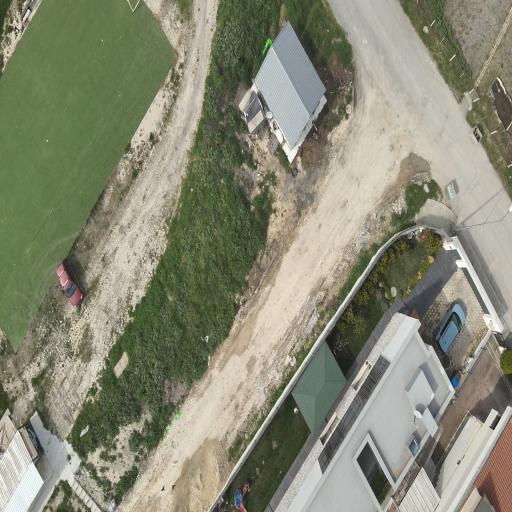car: (436, 303, 465, 353), (57, 259, 82, 307)
